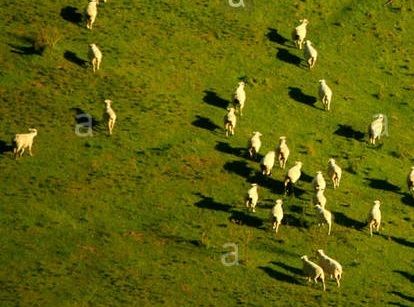sheep: (97, 99, 124, 136), (319, 247, 342, 287), (219, 100, 241, 141), (239, 126, 264, 161), (14, 127, 40, 160), (231, 76, 253, 113), (368, 109, 390, 145), (257, 150, 279, 183), (302, 256, 326, 286), (292, 13, 312, 47), (300, 38, 319, 73), (315, 79, 332, 118), (283, 161, 307, 188), (245, 183, 264, 217), (366, 201, 385, 235), (315, 204, 336, 231), (269, 199, 286, 230), (327, 159, 345, 187), (305, 171, 326, 195), (83, 1, 101, 29), (278, 142, 297, 168), (88, 41, 103, 72), (312, 191, 328, 210)
